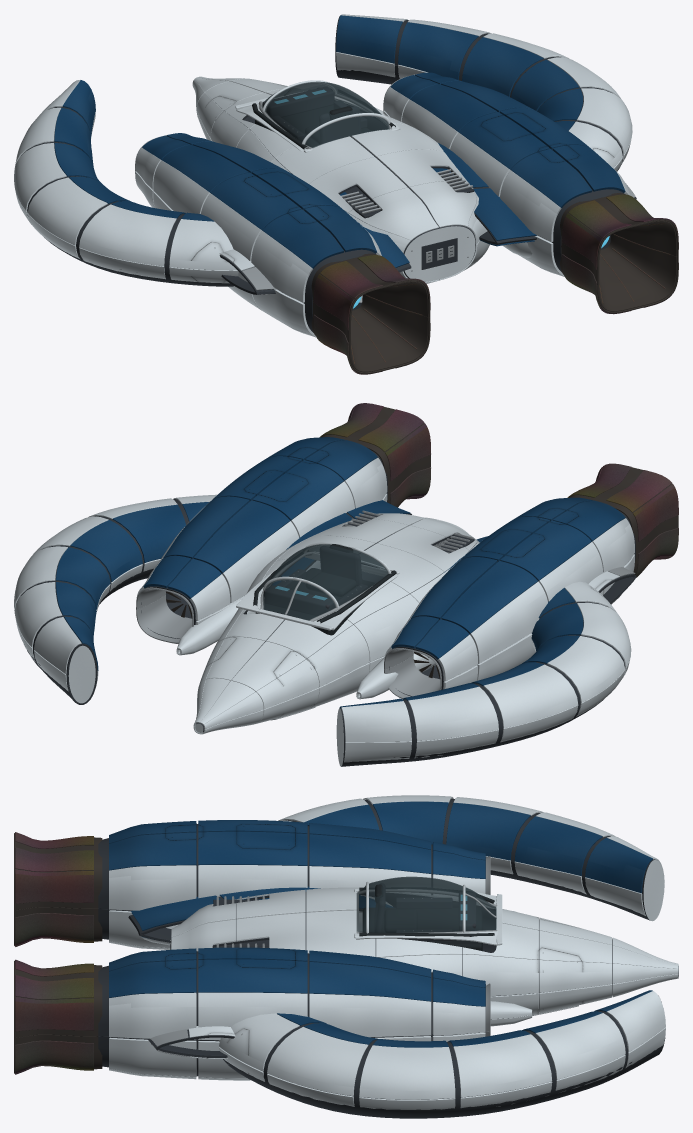
3 views of the same model, one above another, from view 1: azimuth 30°, elevation 25°; view 2: azimuth 150°, elevation 25°; view 3: azimuth 270°, elevation 25° (orthographic). The views are drawn at different scales.
Parts seen in each view (by area): view 1: Recessed convergent nozzle liner, Recessed convergent nozzle liner.001, Thin laminated canopy glazing, Curved shield armor.009, Curved shield armor.048, Curved shield armor.013, Curved shield armor.044, Removable nacelle cowl.010, Curved shield armor.005, Removable nacelle cowl.042, Removable nacelle cowl.002, Removable nacelle cowl.034 (+71 smaller); view 2: Thin laminated canopy glazing, Curved shield armor.017, Curved shield armor.021, Removable nacelle cowl.050, Removable nacelle cowl.018, Removable nacelle cowl.019, Curved shield armor.013, Removable nacelle cowl.010, Removable nacelle cowl.042, Curved shield armor.025, Curved shield armor.036, Curved shield armor.040 (+76 smaller); view 3: Thin laminated canopy glazing, Continuous crescent shield spar.001, Curved shield armor.041, Curved shield armor.037, Curved shield armor.045, Removable nacelle cowl.048, Removable nacelle cowl.041, Removable nacelle cowl.009, Curved shield armor.049, Removable nacelle cowl.032, Removable nacelle cowl.017, Removable nacelle cowl.049 (+83 smaller).
Part boxes in pixels (x1,y1,x2,y2): Recessed convergent nozzle liner: [350, 281, 428, 372]; Recessed convergent nozzle liner.001: [598, 220, 676, 311]; Thin laminated canopy glazing: [262, 81, 389, 147]; Curved shield armor.009: [79, 204, 176, 266]; Curved shield armor.048: [398, 22, 478, 79]; Curved shield armor.013: [27, 177, 107, 245]; Curved shield armor.044: [462, 37, 543, 96]; Removable nacelle cowl.010: [211, 172, 301, 230]; Curved shield armor.005: [169, 219, 236, 270]; Removable nacelle cowl.042: [459, 112, 549, 169]; Removable nacelle cowl.002: [262, 209, 343, 268]; Removable nacelle cowl.034: [511, 149, 592, 208]; Thin laminated canopy glazing: [263, 544, 388, 620]; Curved shield armor.017: [483, 664, 578, 728]; Curved shield armor.021: [408, 686, 498, 740]; Removable nacelle cowl.050: [193, 500, 290, 573]; Removable nacelle cowl.018: [441, 561, 537, 634]; Removable nacelle cowl.019: [470, 581, 547, 663]; Curved shield armor.013: [547, 636, 624, 702]; Removable nacelle cowl.010: [500, 520, 591, 581]; Removable nacelle cowl.042: [252, 460, 343, 520]; Curved shield armor.025: [341, 701, 411, 742]; Curved shield armor.036: [112, 504, 185, 562]; Curved shield armor.040: [70, 520, 142, 581]; Thin laminated canopy glazing: [356, 876, 496, 932]; Continuous crescent shield spar.001: [223, 995, 665, 1118]; Curved shield armor.041: [359, 1045, 455, 1099]; Curved shield armor.037: [267, 1027, 368, 1095]; Curved shield armor.045: [453, 1034, 552, 1097]; Removable nacelle cowl.048: [309, 993, 431, 1037]; Removable nacelle cowl.041: [198, 959, 307, 993]; Removable nacelle cowl.009: [198, 831, 307, 865]; Curved shield armor.049: [535, 1013, 625, 1079]; Removable nacelle cowl.032: [109, 992, 196, 1039]; Removable nacelle cowl.017: [309, 834, 431, 873]; Removable nacelle cowl.049: [309, 962, 431, 1001].
Bounding box in the file's own units: 3.26 × 0.7099 × 3.17.
Materials: 9 (3 with a texture image).
